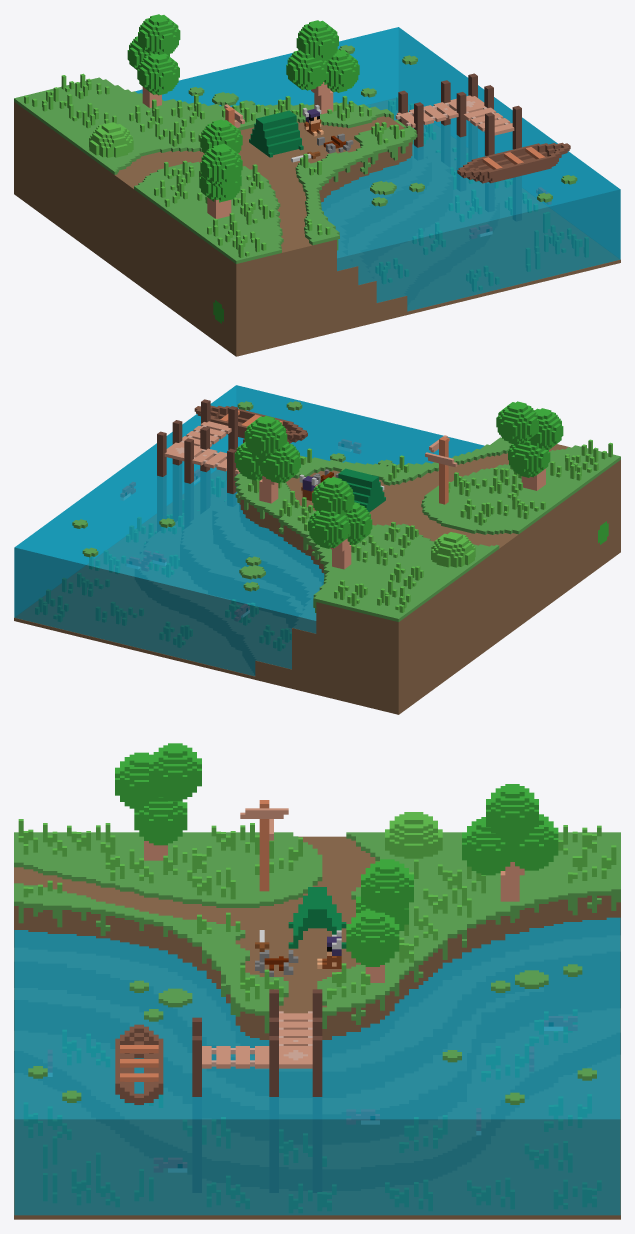
File: lakeside_campsite.glb
3 views of the same model, one above another, from view 1: azimuth 30°, elevation 25°; view 2: azimuth 150°, elevation 25°; view 3: azimuth 270°, elevation 25° (orthographic). The views are drawn at different scales.
Visible parts, largest first — view 1: World, Water, Campsite, Boy; view 2: World, Water, Campsite; view 3: World, Water, Campsite, Boy.
Part boxes in pixels (box(x1,y1,x2,y2)): World: box(14, 14, 620, 356); Water: box(135, 27, 620, 311); Campsite: box(249, 110, 353, 162); Boy: box(302, 105, 323, 136); World: box(14, 399, 620, 714); Water: box(14, 385, 484, 676); Campsite: box(312, 468, 385, 511); World: box(14, 743, 620, 1219); Water: box(14, 917, 620, 1215); Campsite: box(255, 887, 346, 976); Boy: box(317, 930, 341, 968).
Size of what is drawn, in the model's own units: 1260 by 560 by 1260.
2 materials, 1 textured.
